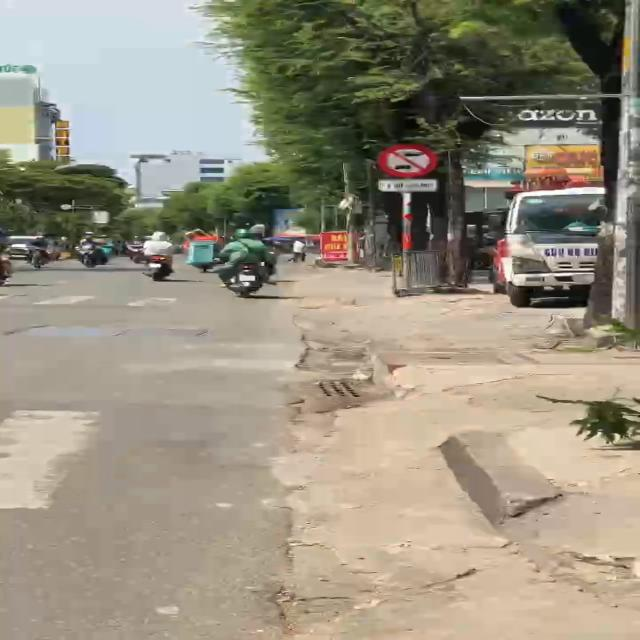Bien bao cam xe oto khach va xe oto tai: (372, 139, 440, 183)
